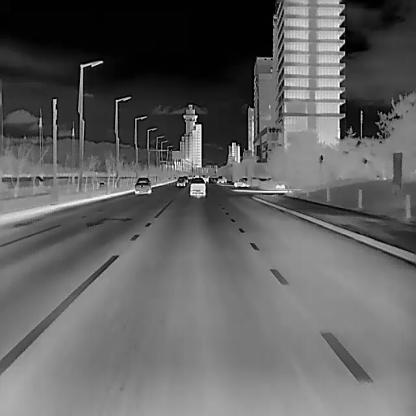car: (189, 176, 206, 196), (134, 177, 150, 193), (232, 175, 250, 187), (176, 176, 185, 186)
